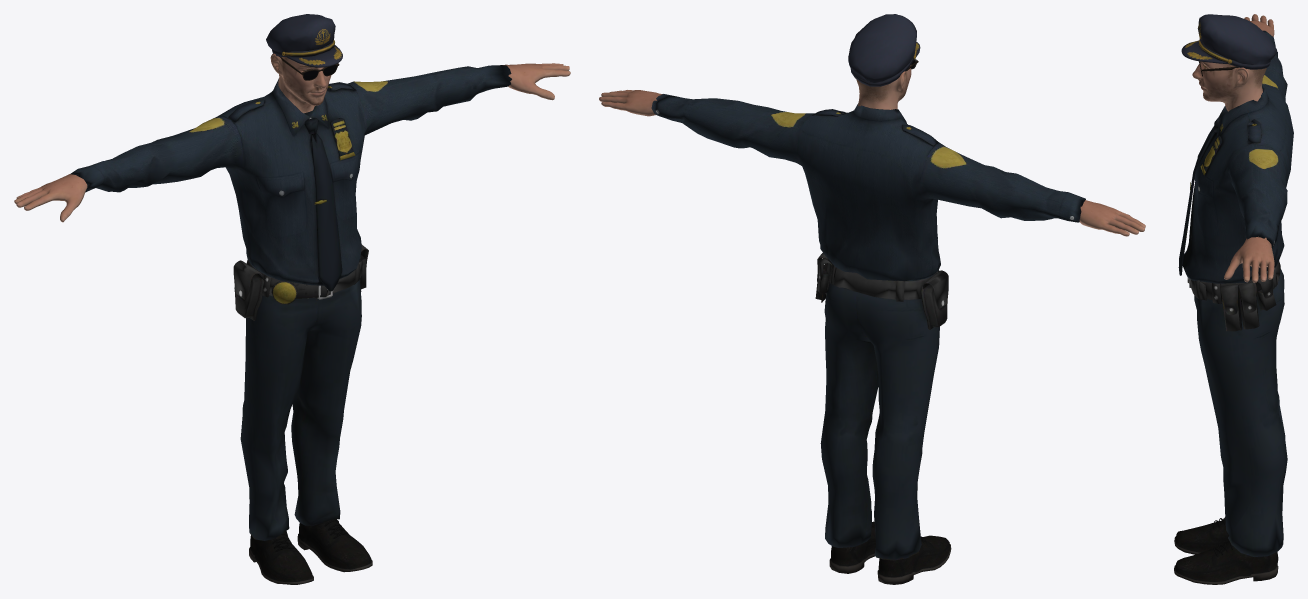
The model's file is police.glb.
3 renders of one model, left to right at view 1: azimuth 30°, elevation 25°; view 2: azimuth 150°, elevation 25°; view 3: azimuth 270°, elevation 25°, orthographic.
Parts seen in each view (by area): view 1: Object_4, Object_2, Object_7, Object_5, Object_6; view 2: Object_4, Object_2, Object_6, Object_7, Object_5; view 3: Object_2, Object_4, Object_5, Object_7, Object_6.
Part boxes in pixels (<box>): Object_4: <box>70,65,511,291</box>; Object_2: <box>233,244,368,540</box>; Object_7: <box>14,53,570,222</box>; Object_5: <box>249,519,372,584</box>; Object_6: <box>266,14,342,67</box>; Object_4: <box>651,94,1085,280</box>; Object_2: <box>815,253,948,560</box>; Object_6: <box>848,14,920,86</box>; Object_7: <box>599,65,1145,236</box>; Object_5: <box>829,521,951,584</box>; Object_2: <box>1187,261,1287,556</box>; Object_4: <box>1178,30,1293,283</box>; Object_5: <box>1174,517,1278,584</box>; Object_7: <box>1192,14,1274,282</box>; Object_6: <box>1181,14,1277,69</box>.
Bounding box in the file's own units: 194 × 184 × 36.61.
Materials: 6 (6 with a texture image).
